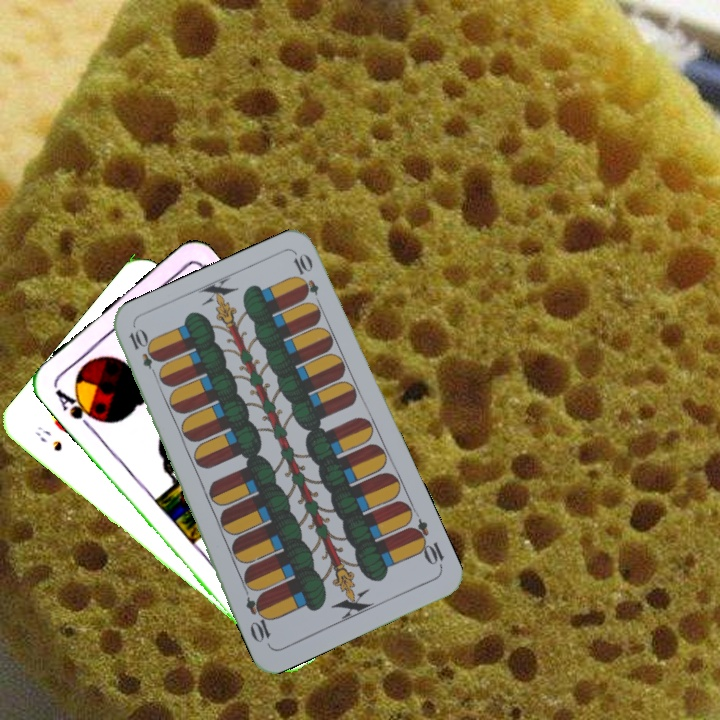E10: (405, 515, 447, 571), (125, 325, 163, 382)
S8: (32, 422, 65, 454)
SA: (51, 385, 102, 432)
